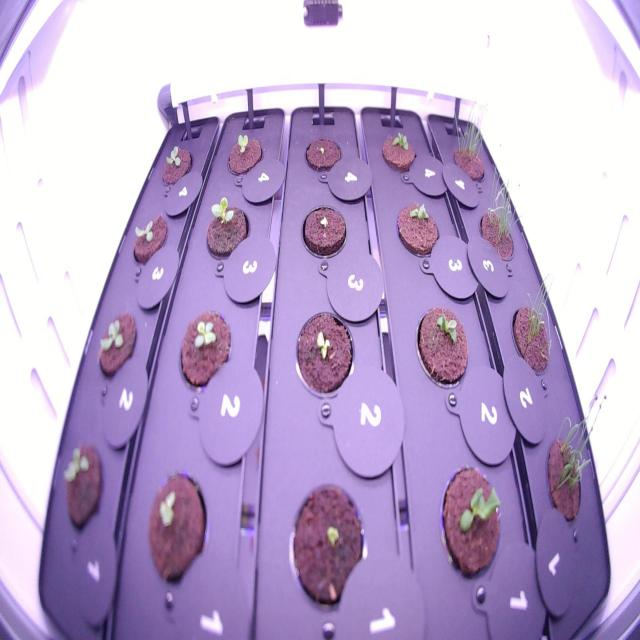germination: (281, 474, 374, 619), (537, 386, 609, 537), (289, 304, 360, 408), (468, 153, 528, 269), (509, 267, 562, 378), (439, 92, 494, 190), (297, 200, 350, 269), (300, 130, 346, 178)
young: (431, 457, 506, 589), (140, 468, 210, 590), (408, 299, 472, 397), (175, 303, 234, 398), (56, 435, 108, 536), (198, 190, 252, 271), (390, 192, 445, 269), (90, 302, 140, 382), (125, 203, 173, 271), (376, 121, 421, 181), (154, 137, 197, 193), (222, 128, 266, 182)
